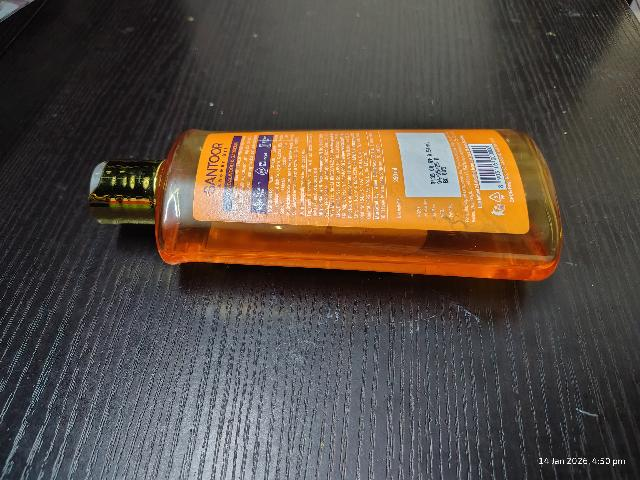santoor bodywash: (85, 126, 577, 282)
